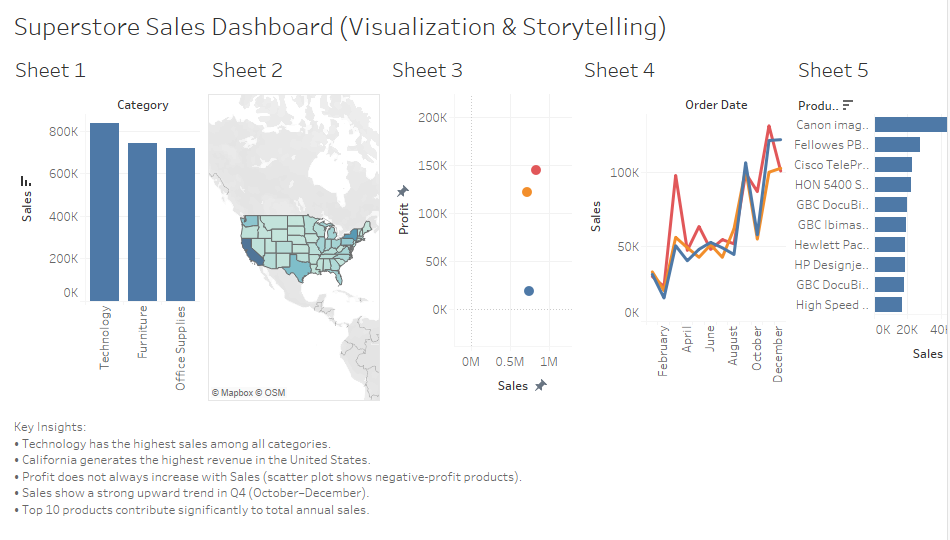

The dashboard page shown, as its layout file describes it:
{"tool":"tableau","page":{"name":"Dashboard 1","canvas":[1000,1000],"units":"permille","ordinal":0},"visuals":[{"type":"title","box":[6.9,14.7,986.1,77.2]},{"type":"worksheet","title":"Sheet 1","mark":"Automatic","rows":["Sales"],"cols":["Category"],"box":[6.9,91.9,159.3,658.1]},{"type":"worksheet","title":"Sheet 2","mark":"Multipolygon","box":[166.2,91.9,197.4,658.1]},{"type":"worksheet","title":"Sheet 3","mark":"Circle","rows":["Profit"],"cols":["Sales"],"box":[363.6,91.9,163.2,658.1]},{"type":"worksheet","title":"Sheet 4","mark":"Automatic","rows":["Sales"],"cols":["Order Date"],"box":[526.8,91.9,163.3,658.1]},{"type":"worksheet","title":"Sheet 5","mark":"Automatic","rows":["Product Name"],"box":[690,91.9,164.5,658.1]},{"type":"legend","title":"Sheet 2","param":"[federated.1aft6vx0fxjl8110n5wvv0br3kq4].[sum:Sales:qk]","box":[854.5,91.9,138.5,119.5]},{"type":"legend","title":"Sheet 3","param":"[federated.1aft6vx0fxjl8110n5wvv0br3kq4].[none:Category:nk]","box":[854.5,211.4,138.5,158.1]},{"type":"text","box":[6.9,750,986.1,235.3]}]}

Visuals, with their boxes on the dashboard's canvas, which has no fixed pixel size, in thousandths of its width and height (x1, y1, x2, y2). These are canvas units, not pixel positions in the 950x540 screenshot, which may show the page scaled, cropped or inside an application window:
title: left=7, top=15, right=993, bottom=92
"Sheet 1" worksheet: left=7, top=92, right=166, bottom=750
"Sheet 2" worksheet (Multipolygon marks): left=166, top=92, right=364, bottom=750
"Sheet 3" worksheet (Circle marks): left=364, top=92, right=527, bottom=750
"Sheet 4" worksheet: left=527, top=92, right=690, bottom=750
"Sheet 5" worksheet: left=690, top=92, right=854, bottom=750
"Sheet 2" legend: left=854, top=92, right=993, bottom=211
"Sheet 3" legend: left=854, top=211, right=993, bottom=370
text: left=7, top=750, right=993, bottom=985
